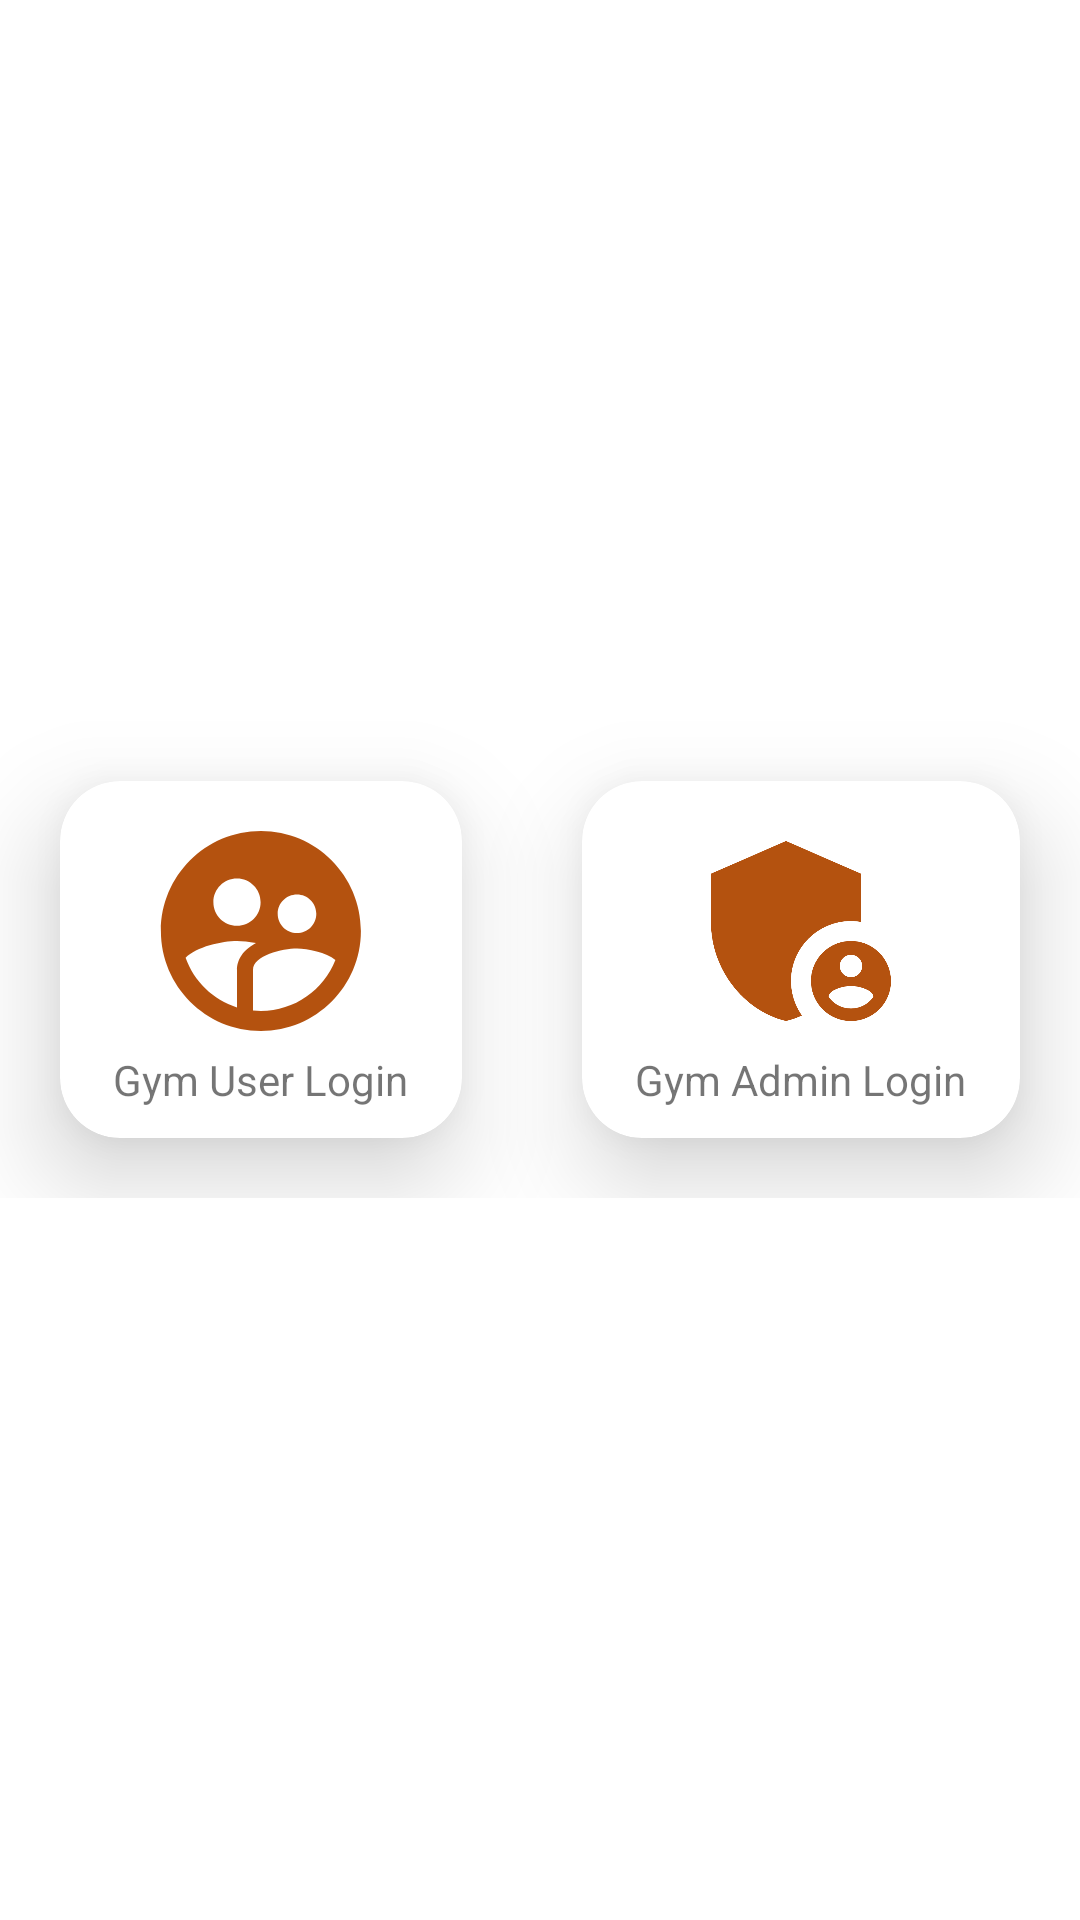

Icons on this 1080x1920 Android screen, each with its box as (x1, y1, x2, y2):
admin panel settings: (711, 841, 891, 1021)
supervised user circle: (160, 831, 361, 1031)
